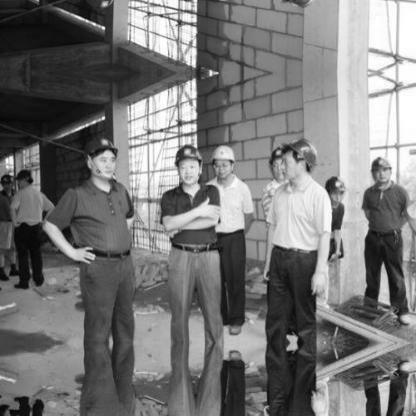helmet: (273, 137, 315, 182), (83, 134, 121, 182), (173, 144, 204, 184), (269, 143, 297, 179), (210, 144, 237, 179), (370, 154, 393, 185), (326, 175, 347, 206), (16, 167, 35, 195), (83, 0, 122, 13), (273, 0, 316, 10), (2, 171, 14, 190)
